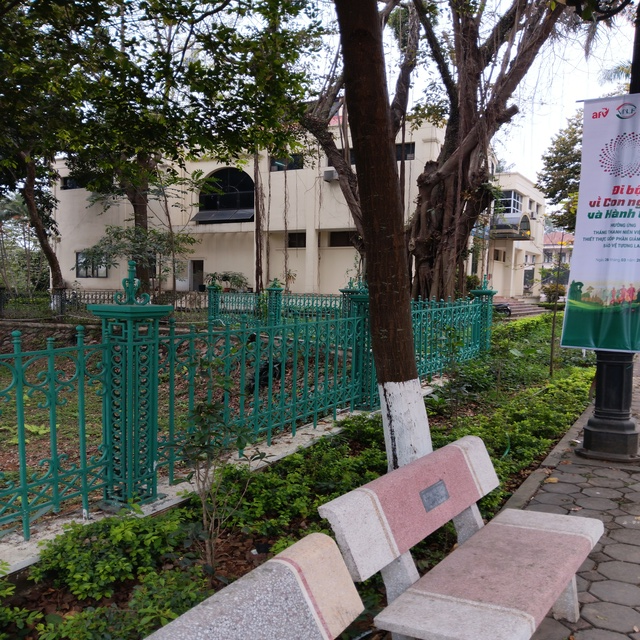gheda: (334, 437, 622, 640), (49, 532, 396, 640)
